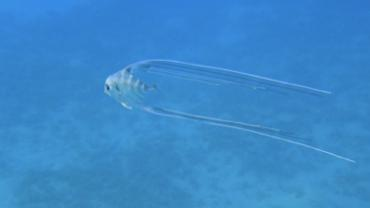Carangidae -Jacks-: (93, 52, 354, 171)
